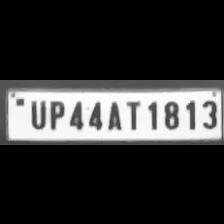1: (181, 98, 199, 130), (141, 98, 158, 130)
3: (198, 97, 218, 129)
4: (65, 96, 85, 130), (84, 96, 104, 130)
8: (159, 98, 181, 130)
A: (103, 98, 123, 130)
P: (45, 97, 65, 129)
T: (122, 96, 144, 130)
U: (26, 97, 46, 129)
